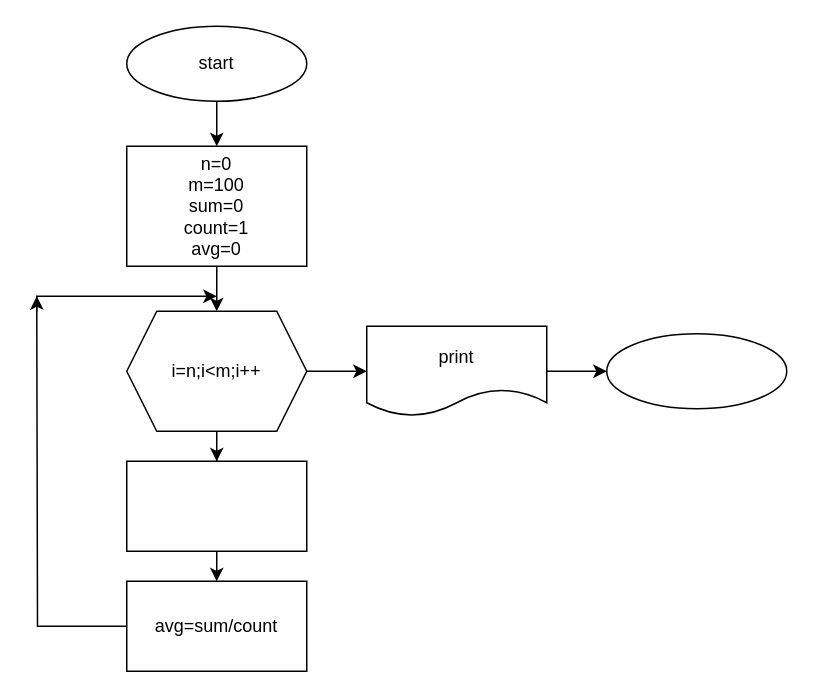
This 813x698 diagram has some shape labels left out. The centre of each missing label's shape, as x and y in pixels:
"finish" belongs at point 696,370.
"sum+=i count++" belongs at point 216,505.
